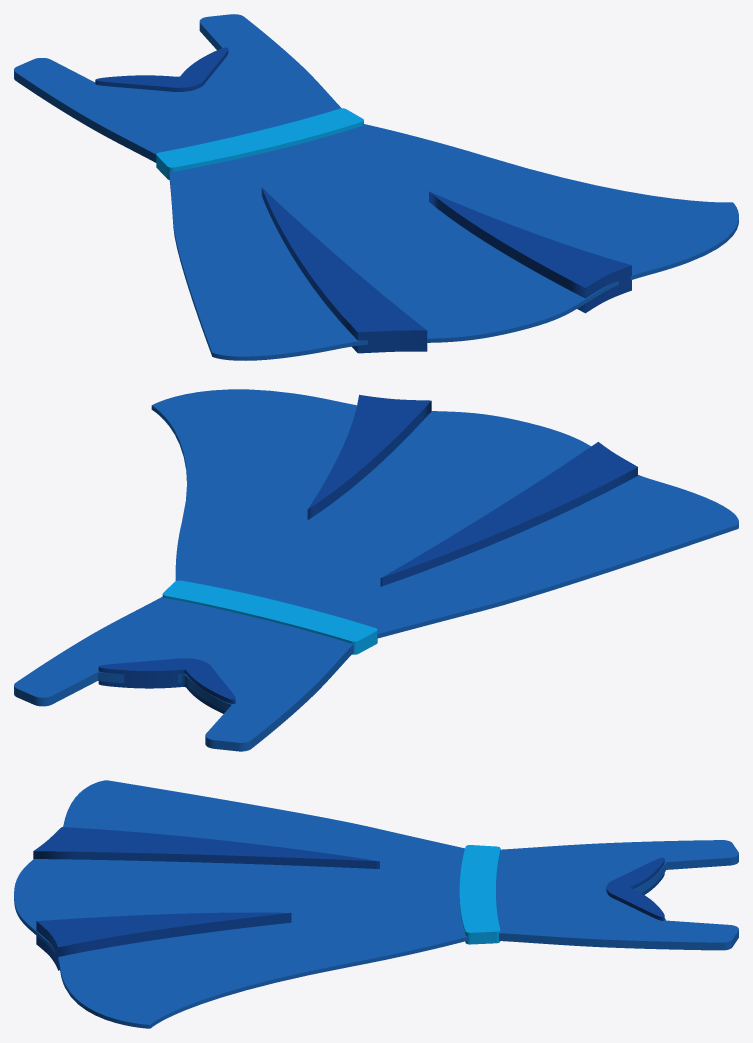
Rendered from emoji_u1f457.glb.
3 renders of one model, top to bottom at view 1: azimuth 30°, elevation 25°; view 2: azimuth 150°, elevation 25°; view 3: azimuth 270°, elevation 25°, orthographic. The views are drawn at different scales.
Parts seen in each view (by area): view 1: emoji_u1f457; view 2: emoji_u1f457; view 3: emoji_u1f457.
Boxes of the visible parts, <box> form: emoji_u1f457: <box>14,14,738,360</box>; emoji_u1f457: <box>14,389,738,751</box>; emoji_u1f457: <box>14,780,738,1028</box>.
Bounding box in the file's own units: 0.027 × 0.0012 × 0.0338.
